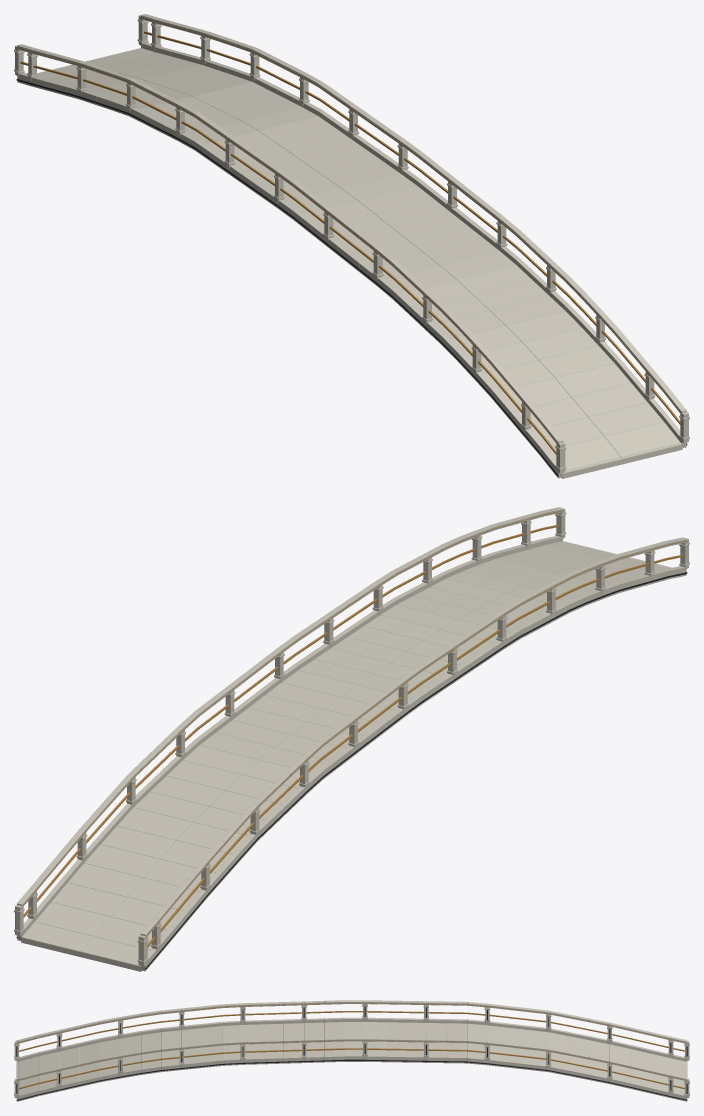
The model's file is SM_Aurelion_KIT_Z01_StoneBridge.fbx.
3 views of the same model, one above another, from view 1: azimuth 30°, elevation 25°; view 2: azimuth 150°, elevation 25°; view 3: azimuth 270°, elevation 25° (orthographic). The views are drawn at different scales.
Parts seen in each view (by area): view 1: SM_Aurelion_KIT_Z01_StoneBridge; view 2: SM_Aurelion_KIT_Z01_StoneBridge; view 3: SM_Aurelion_KIT_Z01_StoneBridge.
Part boxes in pixels (left/top/right/bottom): SM_Aurelion_KIT_Z01_StoneBridge: left=14, top=14, right=689, bottom=478; SM_Aurelion_KIT_Z01_StoneBridge: left=14, top=507, right=689, bottom=971; SM_Aurelion_KIT_Z01_StoneBridge: left=14, top=1000, right=689, bottom=1101.
Size of what is drawn, in the model's own units: 457 by 3317 by 345.
